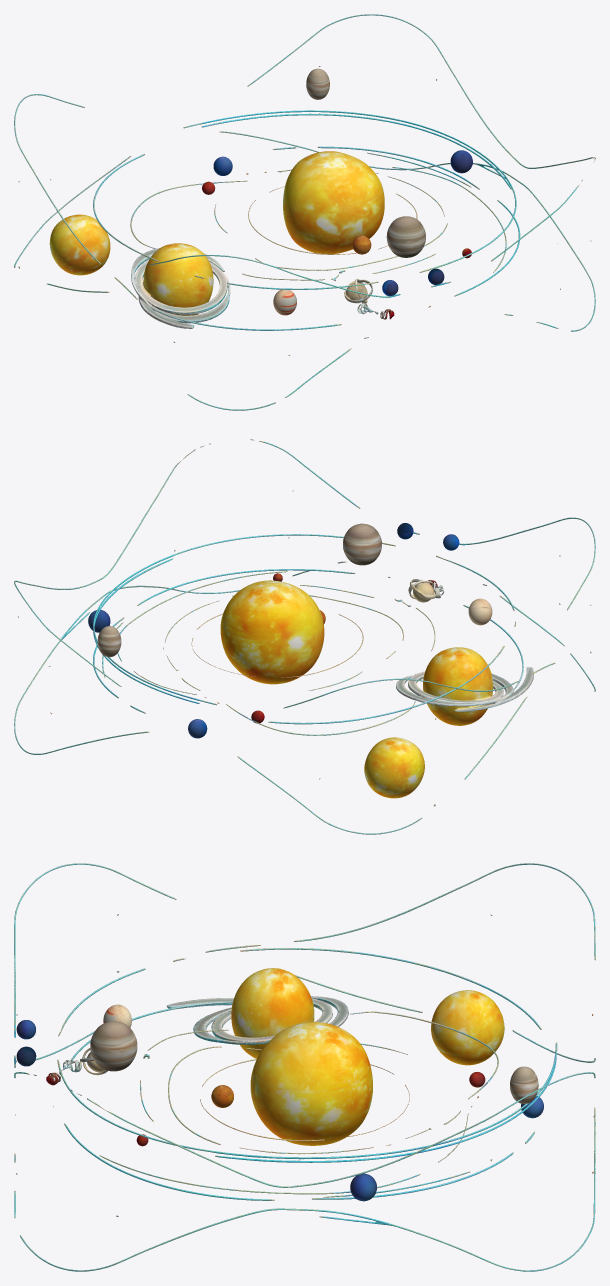
File: demo4.glb
The picture shows the model from 3 angles, top to bottom: view 1: azimuth 30°, elevation 25°; view 2: azimuth 150°, elevation 25°; view 3: azimuth 270°, elevation 25°; orthographic projection. The views are drawn at different scales.
Bounding box in the file's own units: 1.9 × 0.6676 × 1.9.
1 material, 1 textured.
